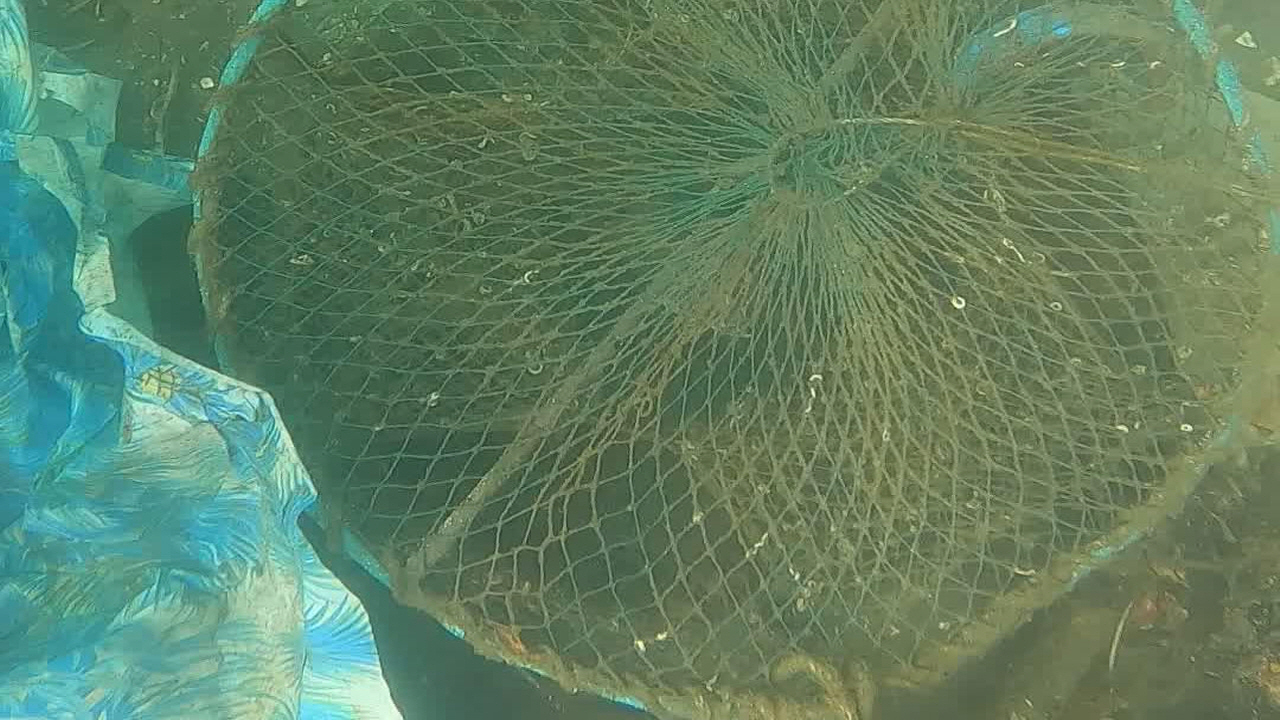circular fish trap: (188, 0, 1276, 720)
